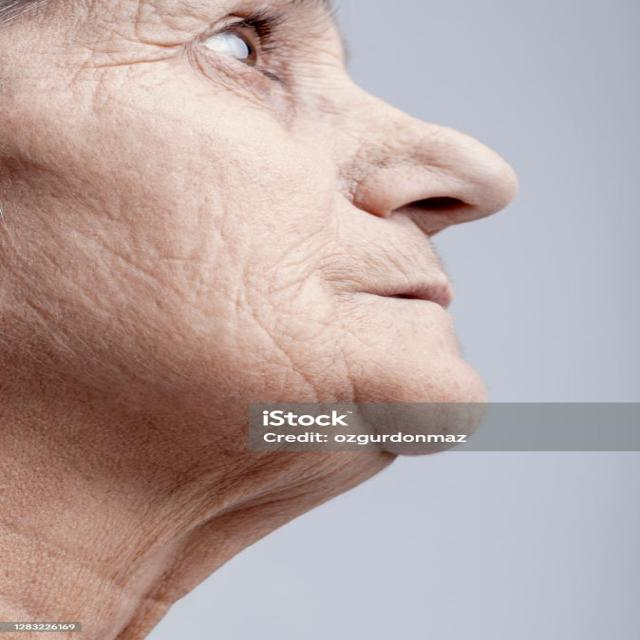Dry-Skin: (14, 178, 262, 350), (13, 0, 195, 151), (330, 107, 507, 201)
